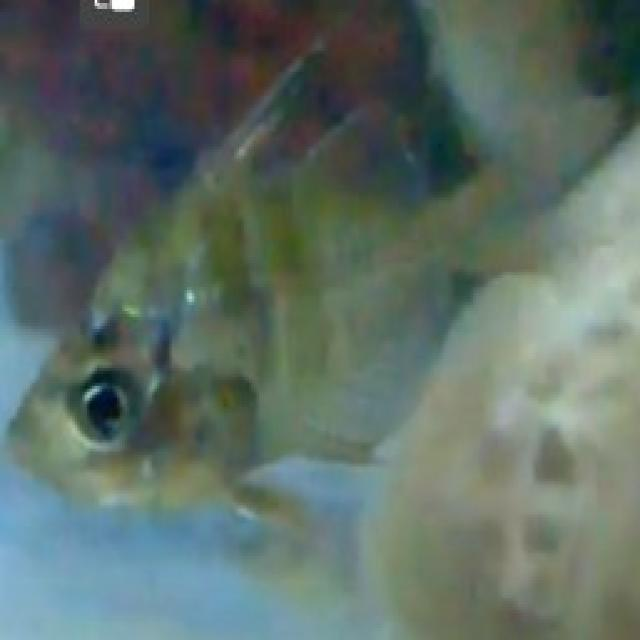Glass-Perchlet: (3, 18, 615, 640)
